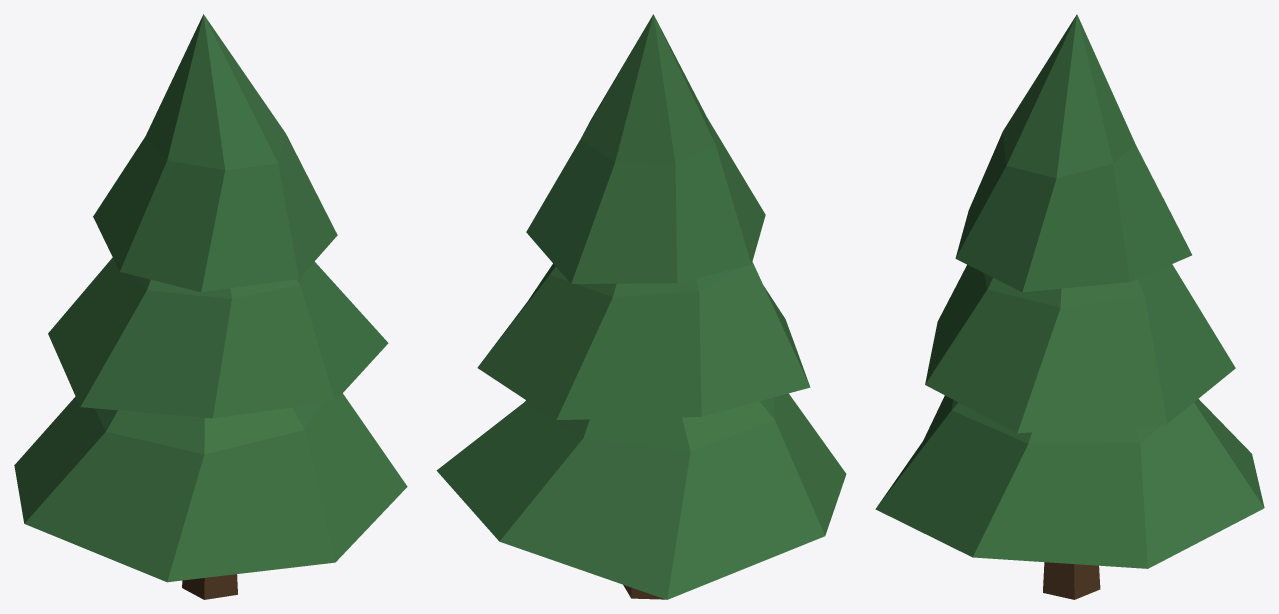
Rendered from deco_pine_m.glb.
3 renders of one model, left to right at view 1: azimuth 30°, elevation 25°; view 2: azimuth 150°, elevation 25°; view 3: azimuth 270°, elevation 25°, orthographic.
Parts seen in each view (by area): view 1: deco_pine_m_mesh; view 2: deco_pine_m_mesh; view 3: deco_pine_m_mesh.
Boxes of the visible parts, <box> form: deco_pine_m_mesh: <box>14,14,407,599</box>; deco_pine_m_mesh: <box>436,14,846,599</box>; deco_pine_m_mesh: <box>875,14,1264,599</box>.
Size of the model in its own units: 0.2264 by 0.35 by 0.2165.
